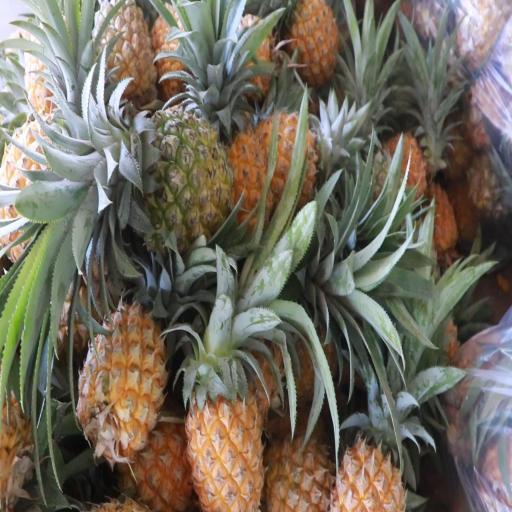Pineapple - v8 v1: (185, 326, 267, 510), (78, 305, 164, 479), (251, 112, 359, 200), (282, 0, 350, 103), (90, 2, 156, 107)
